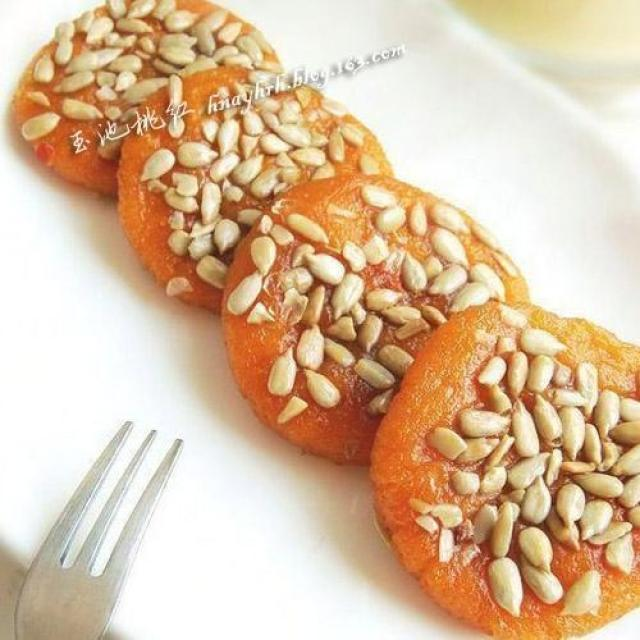炸货点心: (11, 10, 630, 631)
蛋糕甜品: (11, 10, 630, 631)
